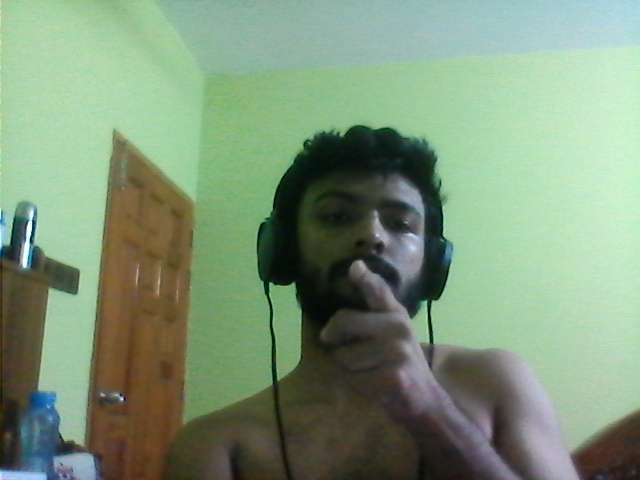You: (309, 258, 473, 434)
